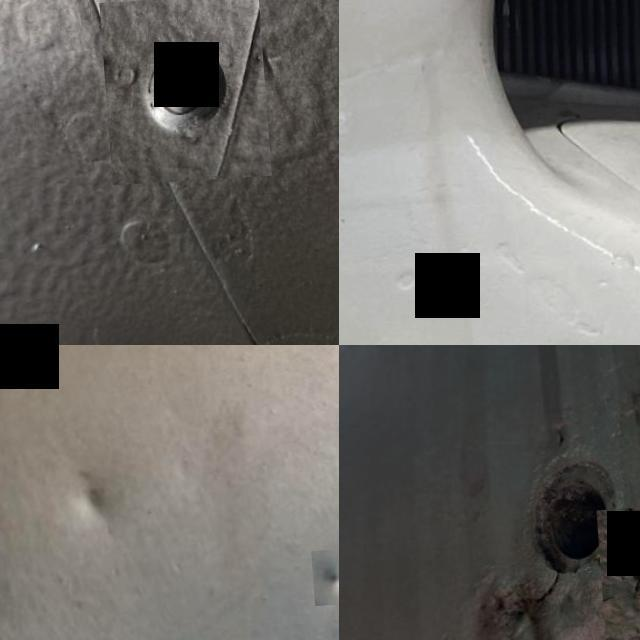Crack: (591, 508, 640, 638)
Dent: (43, 444, 138, 552), (511, 278, 576, 337), (283, 594, 339, 640), (307, 553, 339, 610), (480, 243, 524, 281), (589, 254, 636, 284), (544, 325, 602, 345), (382, 271, 414, 297), (582, 280, 606, 296), (634, 286, 640, 308)
Missing_Fastener: (95, 0, 264, 188)
